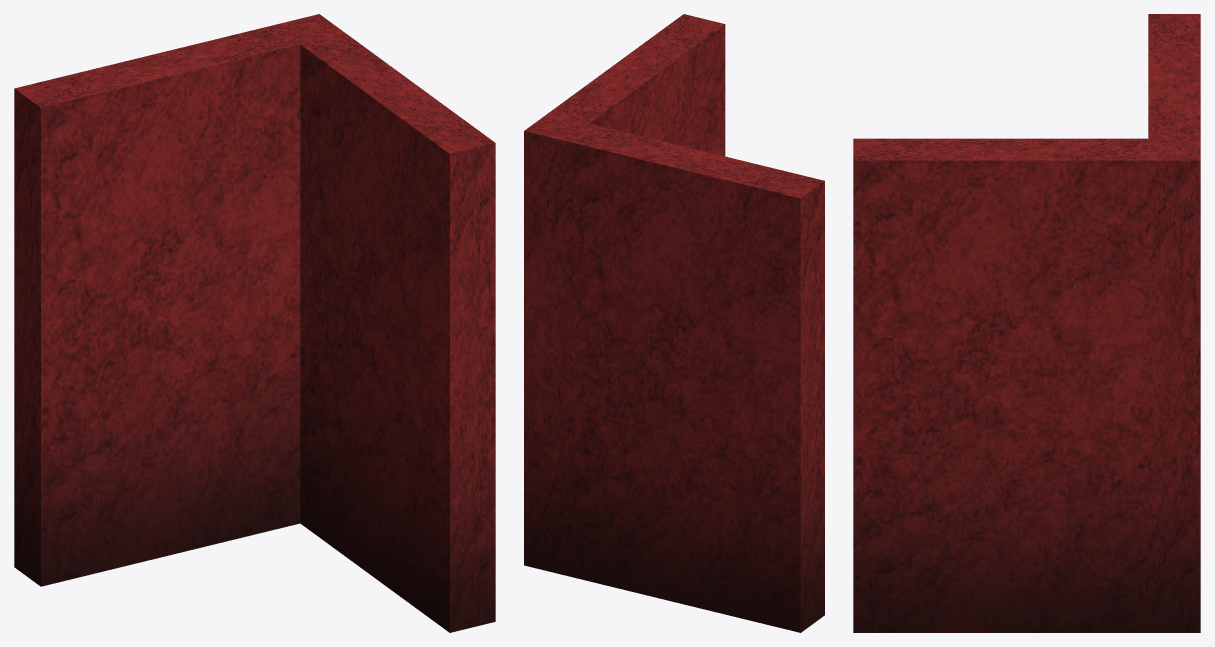
File: Wall_Corner.fbx
3 views of the same model, side by side, from view 1: azimuth 30°, elevation 25°; view 2: azimuth 150°, elevation 25°; view 3: azimuth 270°, elevation 25° (orthographic). The views are drawn at different scales.
Visible parts, largest first — view 1: Cube.005; view 2: Cube.005; view 3: Cube.005.
Part boxes in pixels (left/top/right/bottom): Cube.005: left=14, top=14, right=495, bottom=632; Cube.005: left=524, top=14, right=824, bottom=632; Cube.005: left=853, top=14, right=1200, bottom=632.
Bounding box in the file's own units: 200 × 300 × 200.
